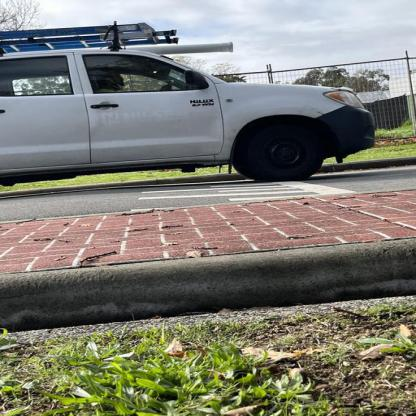Tire: (232, 120, 323, 182)
